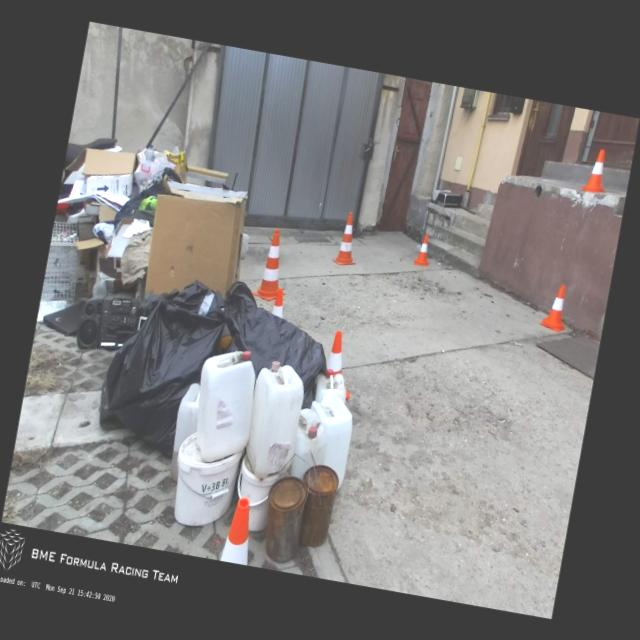large_orange_cone: (250, 226, 294, 304), (331, 210, 364, 268)
orange_cone: (322, 330, 361, 400), (220, 495, 258, 565), (538, 282, 571, 333), (580, 146, 612, 195), (413, 232, 432, 266)
